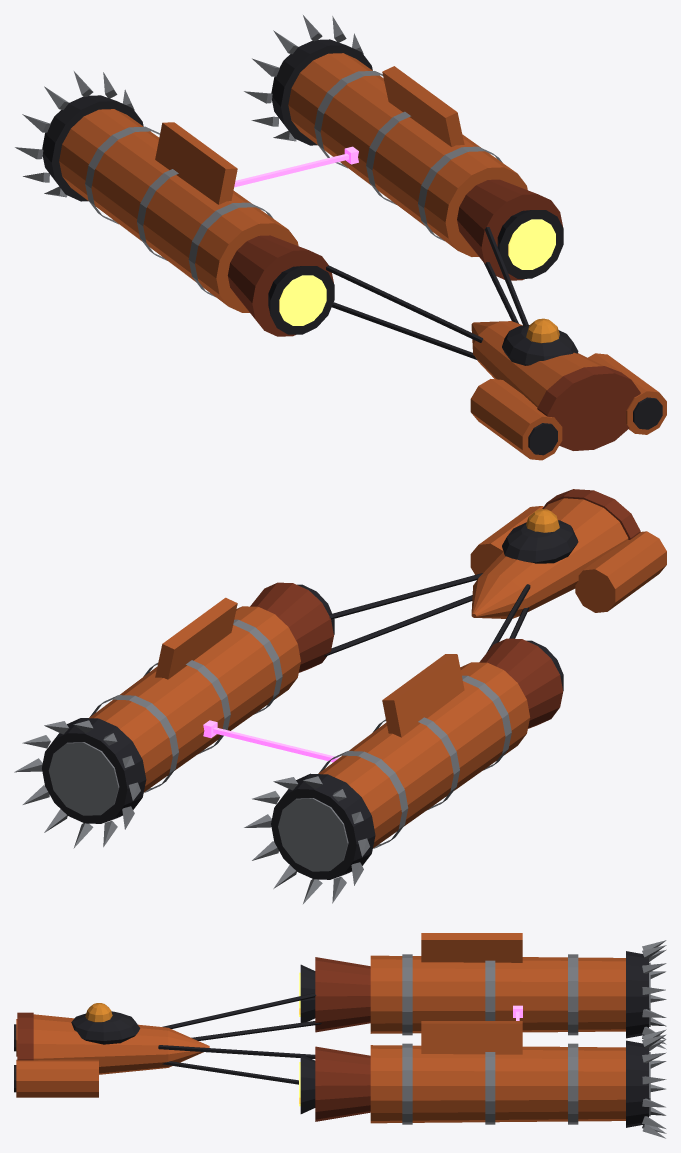
File: vespa.glb
3 renders of one model, top to bottom at view 1: azimuth 30°, elevation 25°; view 2: azimuth 150°, elevation 25°; view 3: azimuth 270°, elevation 25°, orthographic. The views are drawn at different scales.
Parts seen in each view (by area): view 1: vespa; view 2: vespa; view 3: vespa.
Part boxes in pixels (<box>): vespa: <box>15,15,666,460</box>; vespa: <box>14,489,666,903</box>; vespa: <box>14,933,666,1138</box>.
Bounding box in the file's own units: 6.99 × 2.66 × 14.19.
